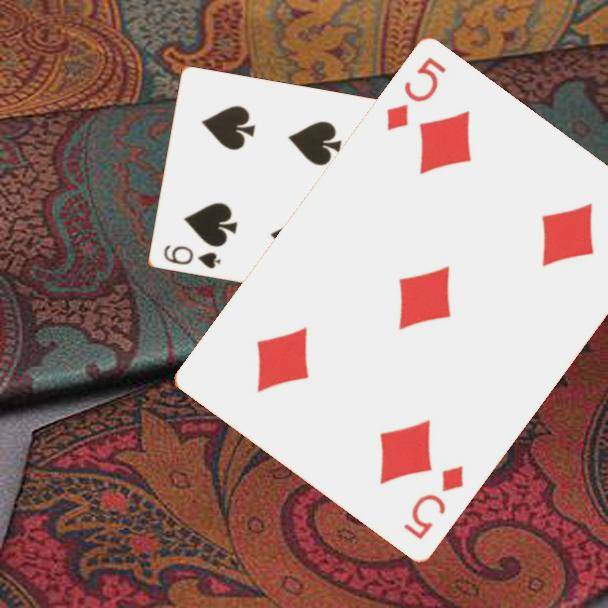d05: (399, 461, 467, 542), (383, 53, 449, 133)
s06: (160, 241, 223, 272)
